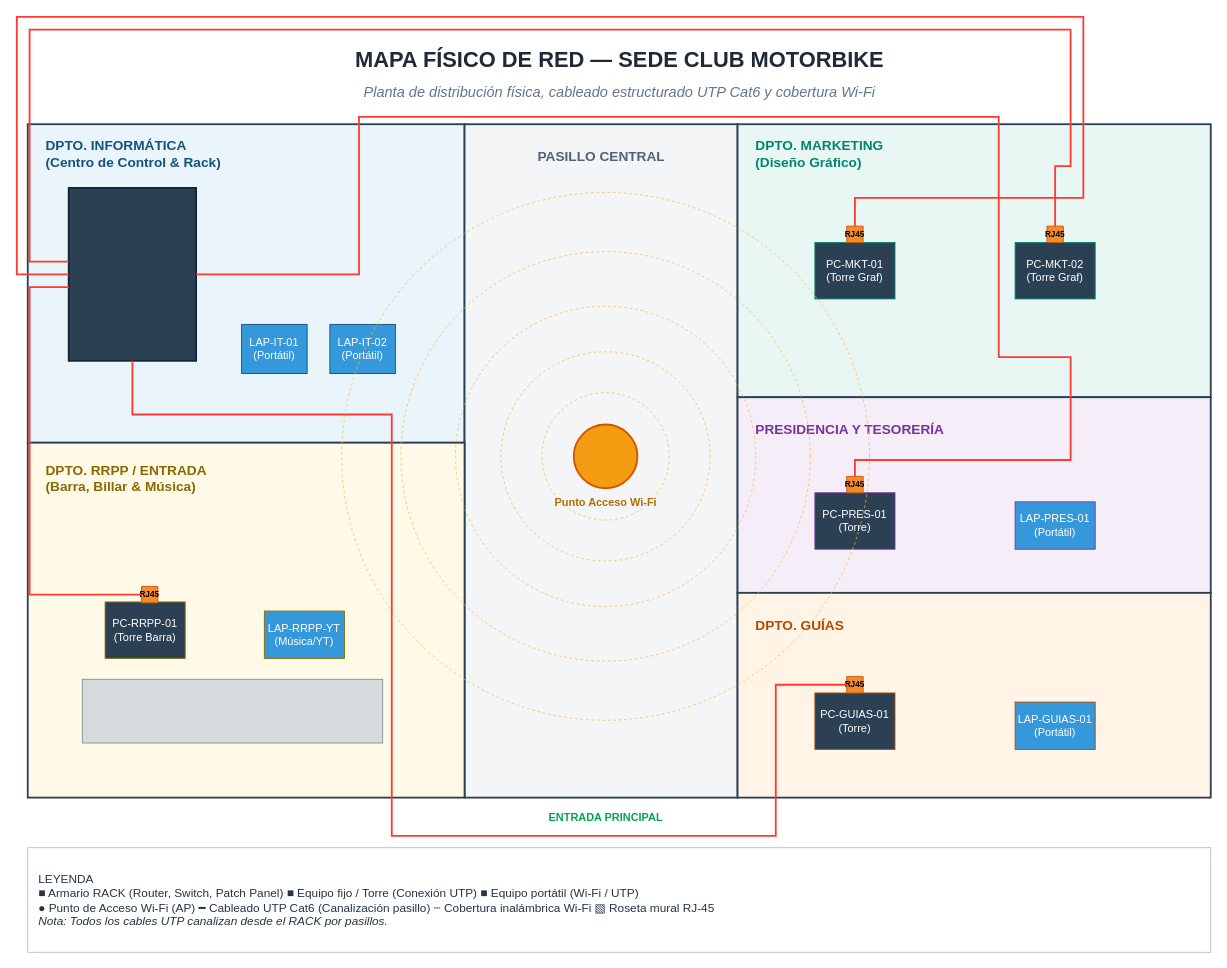
Image size: 1227x968. Some labels were removed from this diagram. Here are the shapes that lost their labels. From the top down, the centre of each, then its label:
[132,274]: RACK CENTRAL • Router ISP • Switch 24p • Patch Panel
[605,456]: AP
[232,710]: BARRA DE RRPP
